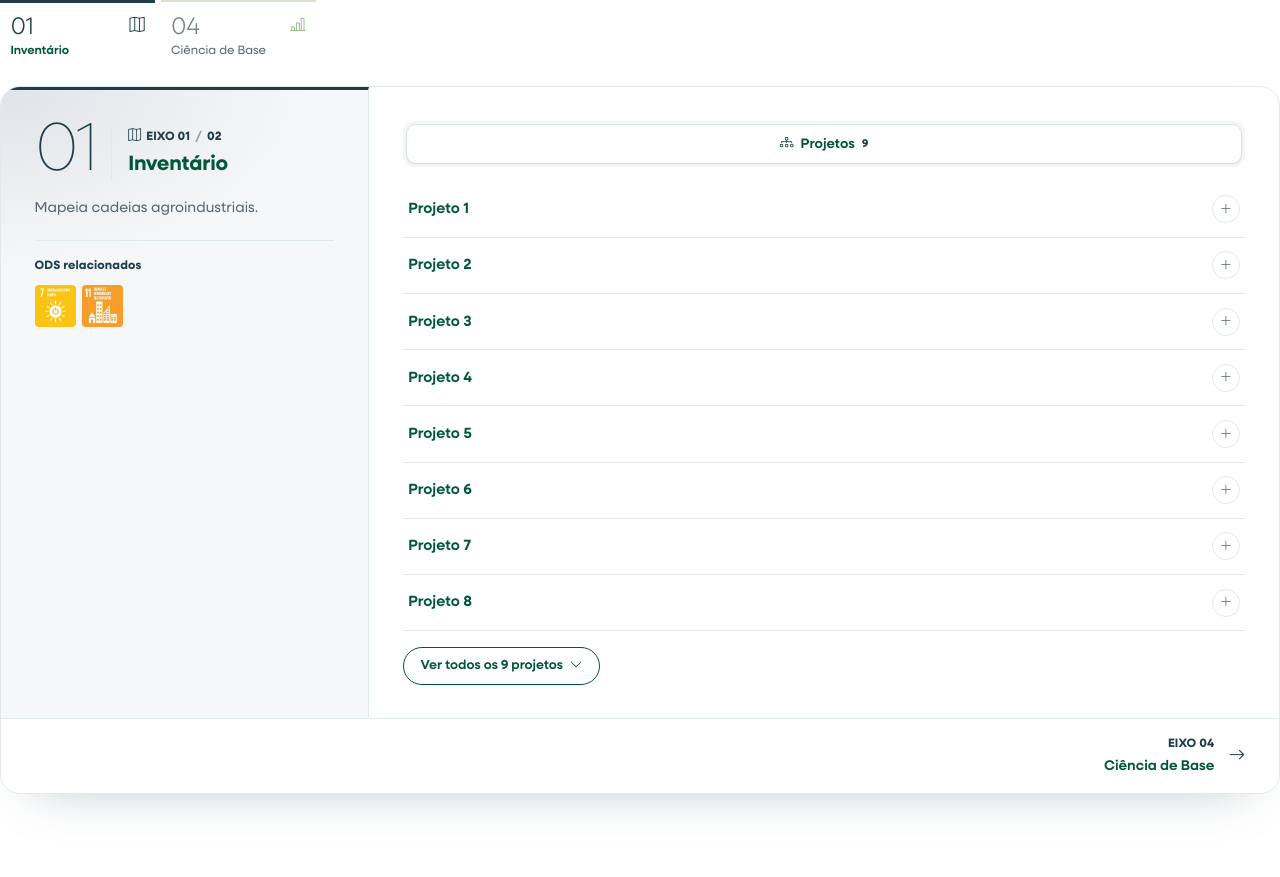
Test: AxisExplorer › opens one row at a time in place
Click the button "Projeto 1".
click(439, 209)  # box [403,182,1245,237]
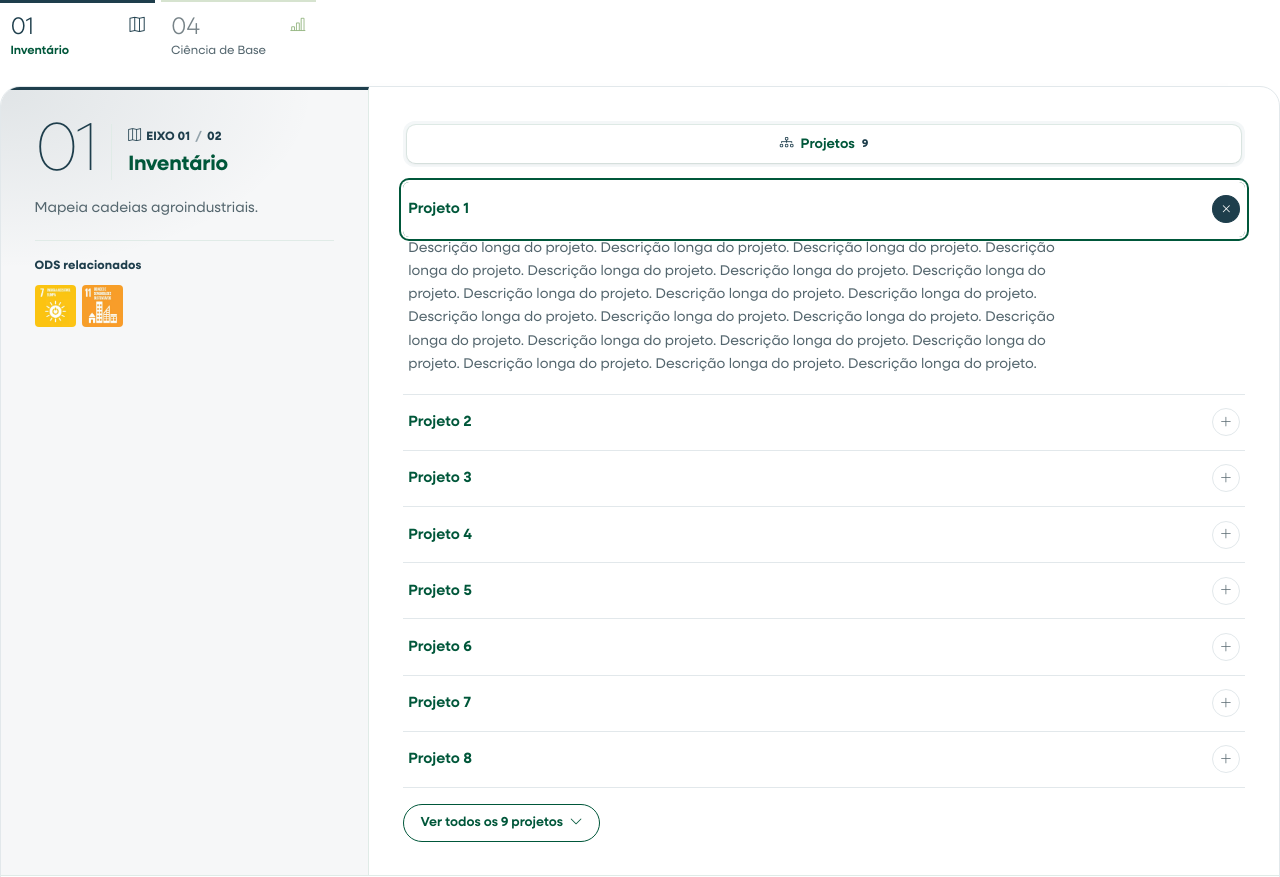
Expected: the button "Projeto 1" is expanded, [403,182,1245,237]
Expected: the element with class "axx-row__body" shows "Descrição longa do projeto.", [408,241,1055,371]
Click the button "Projeto 2".
click(440, 422)  # box [403,395,1245,450]
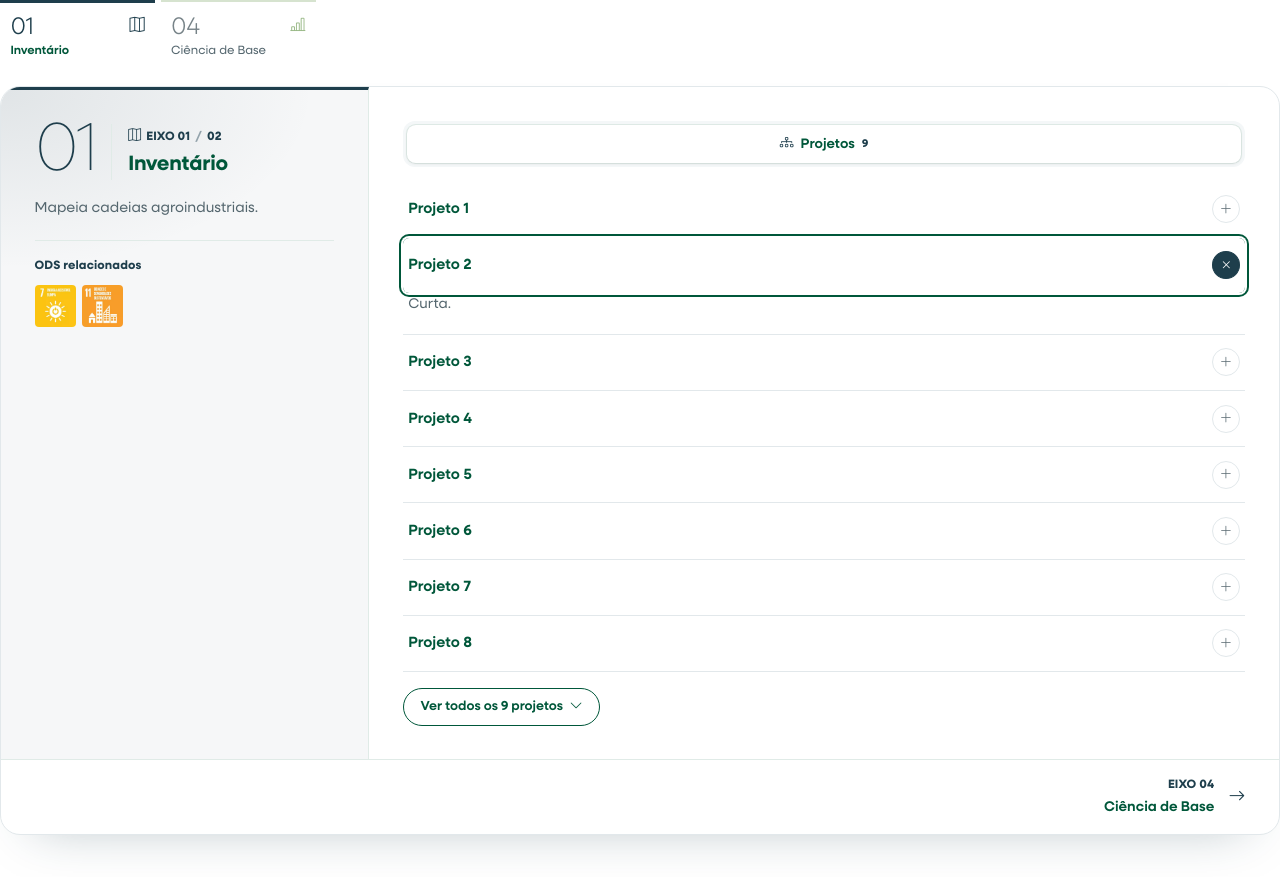
Expected: the number of elements with class "axx-row__body" is 1, [408,297,451,311]
Expected: the button "Projeto 1" is collapsed, [403,182,1245,237]
